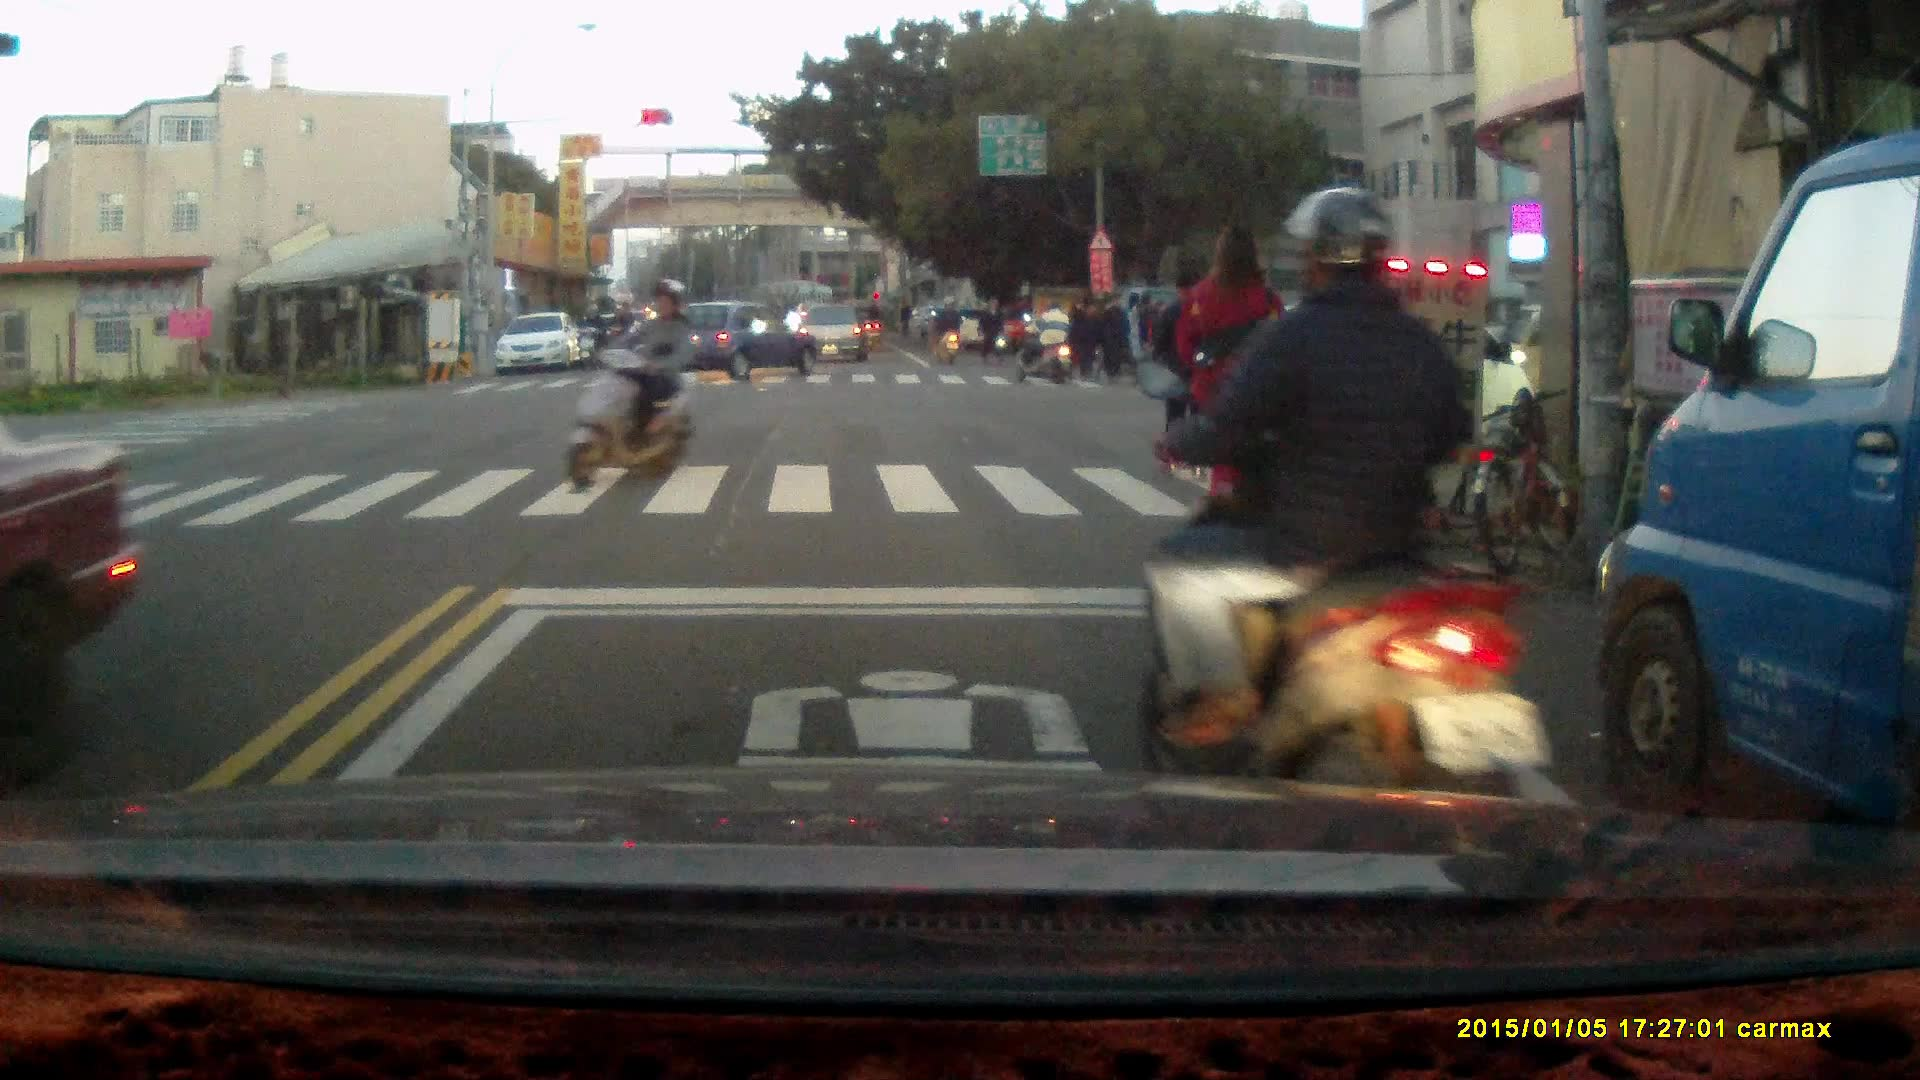pedestrian: (1175, 218, 1293, 570), (1148, 262, 1231, 480), (1096, 290, 1129, 386), (1065, 296, 1090, 377), (979, 292, 1003, 367)
rider: (1136, 185, 1542, 870), (563, 279, 700, 491), (1016, 296, 1073, 384), (929, 293, 962, 368), (575, 302, 607, 370), (602, 301, 632, 363)
vehicle: (1598, 132, 1920, 882), (1, 394, 141, 746), (1233, 296, 1533, 459), (659, 303, 819, 385), (498, 313, 586, 377), (795, 302, 873, 365)
